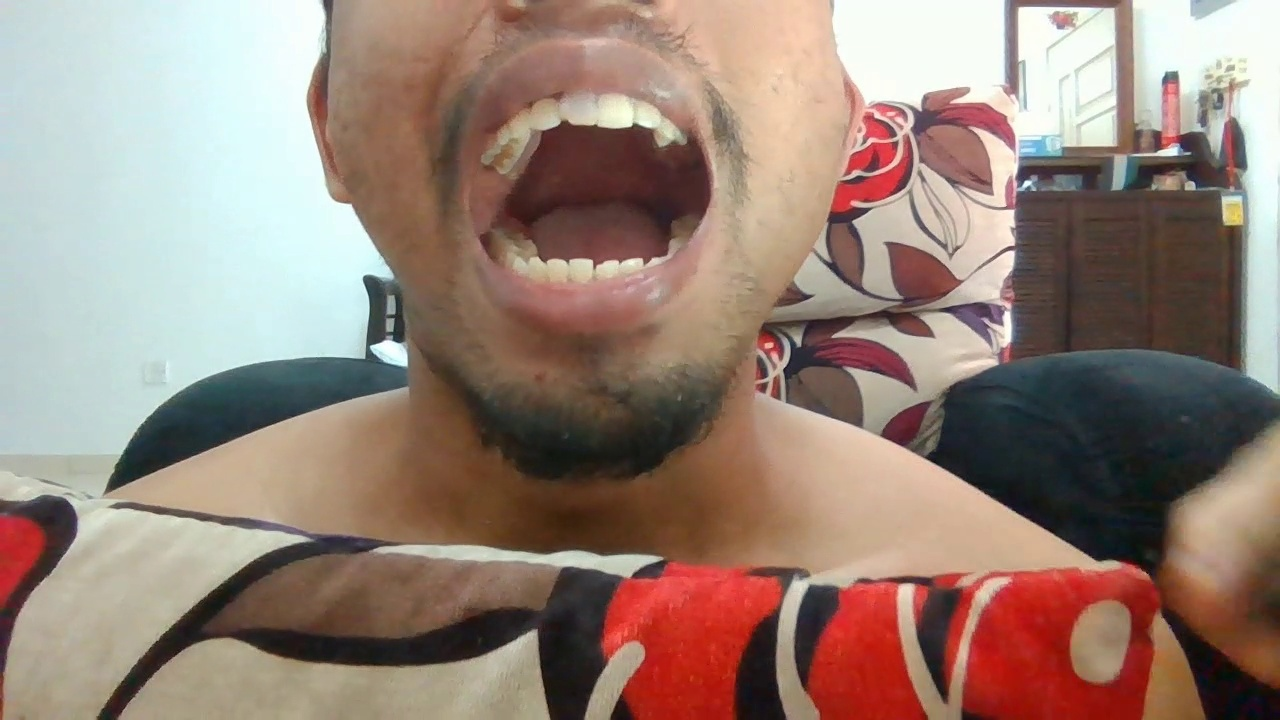1st Premolar: (497, 124, 530, 145), (512, 257, 530, 278)
Canine: (509, 108, 532, 137), (655, 115, 680, 140), (529, 256, 547, 281)
Central Incisor: (559, 90, 599, 126), (599, 92, 634, 128), (568, 257, 595, 283), (595, 260, 620, 280)
Lateral Incisor: (529, 98, 561, 129), (635, 98, 662, 128), (547, 258, 568, 283), (621, 257, 644, 275)
